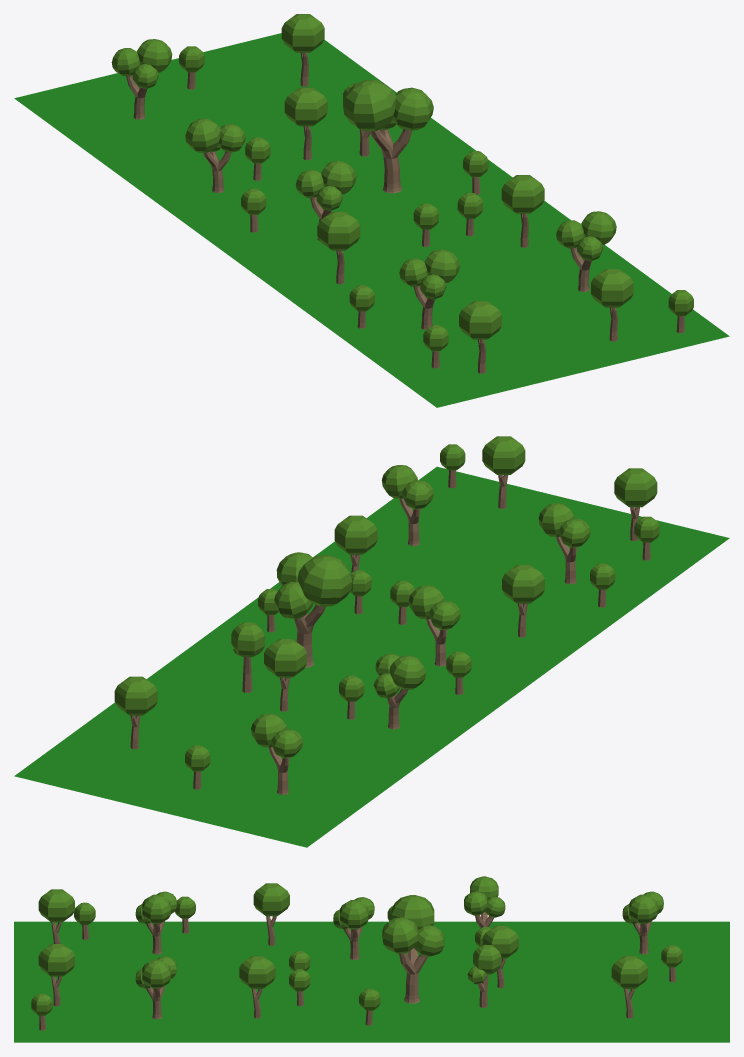
File: woods.obj
The picture shows the model from 3 angles, top to bottom: view 1: azimuth 30°, elevation 25°; view 2: azimuth 150°, elevation 25°; view 3: azimuth 270°, elevation 25°; orthographic projection. The views are drawn at different scales.
Visible parts, largest first — view 1: mergedBlocks; view 2: mergedBlocks; view 3: mergedBlocks.
Part boxes in pixels (left/top/right/bottom): mergedBlocks: left=14, top=14, right=729, bottom=407; mergedBlocks: left=14, top=436, right=729, bottom=847; mergedBlocks: left=14, top=876, right=729, bottom=1042.
Size of the model in its own units: 20 by 7.49 by 50.
